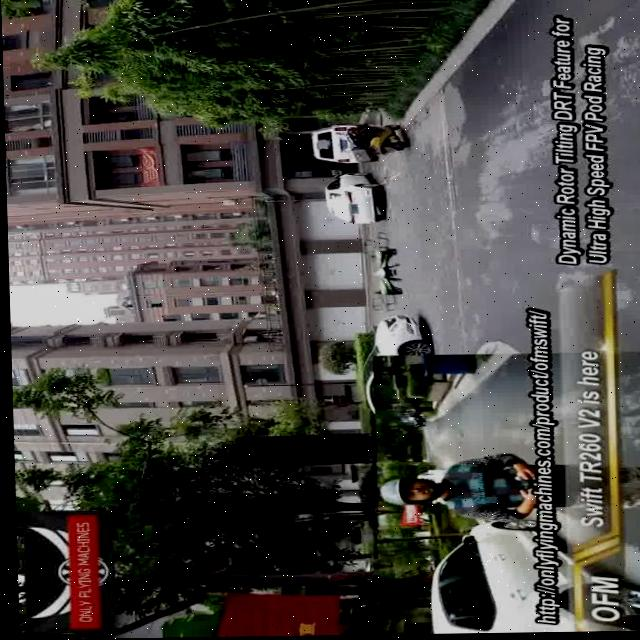drone: (350, 231, 415, 320)
